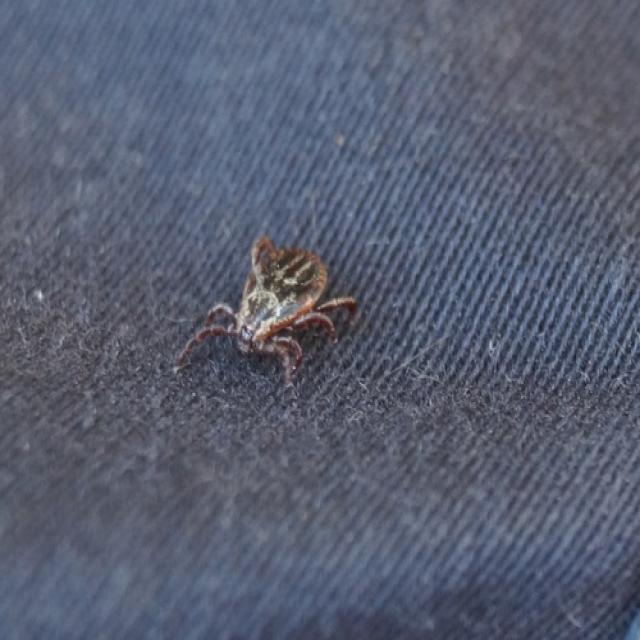Dermacentor Reticulatus-M: (177, 235, 356, 382)
